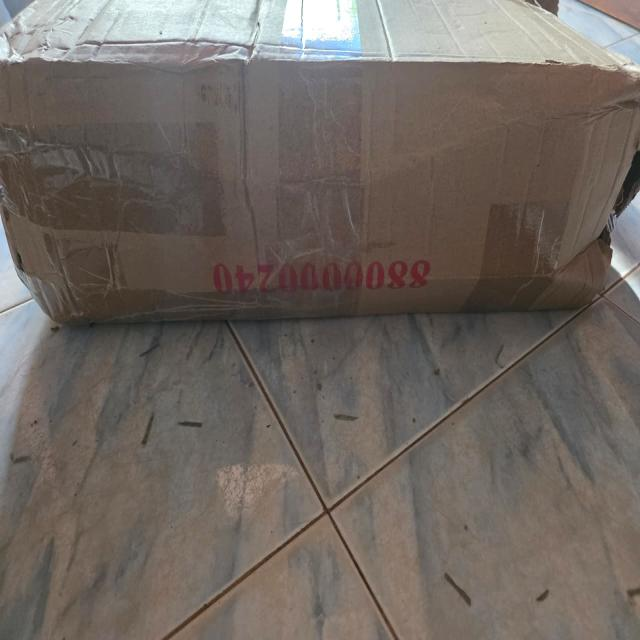carton_box: (0, 0, 640, 342)
package_damage: (594, 55, 640, 324), (0, 56, 47, 302)
